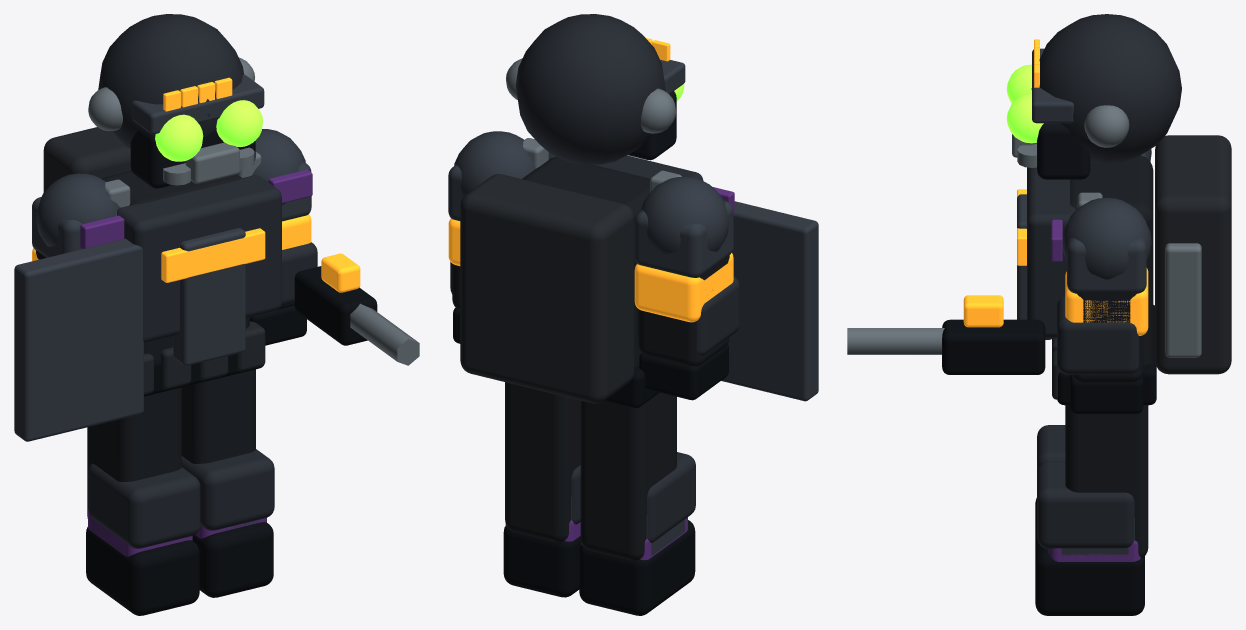
The model's file is assault_l04.glb.
3 views of the same model, side by side, from view 1: azimuth 30°, elevation 25°; view 2: azimuth 150°, elevation 25°; view 3: azimuth 270°, elevation 25° (orthographic). The views are drawn at different scales.
Parts seen in each view (by area): view 1: forearm_shield, segmented_vest, trouser (×2), shaped_knee_guard (×2), boot (×2), rounded_helmet, front_plate, shoulder_joint (×2), field_pack, carbine_body, dzn_chest_flash, helmet_brow (+19 smaller); view 2: field_pack, trouser (×2), rounded_helmet, forearm_shield, boot (×2), shoulder_joint (×2), rank_stripe (×2), shoulder_plate (×2), body, shaped_knee_guard (×2), sleeve, glove (+6 smaller); view 3: field_pack, rounded_helmet, trouser, shaped_knee_guard (×2), boot, carbine_body, segmented_vest, shoulder_joint, forearm_plate, spare_magazine, body, shoulder_plate (+13 smaller).
Boxes of the visible parts, box(x1,y1,x2,y2) form: forearm_shield: box(14, 238, 143, 441); segmented_vest: box(117, 175, 281, 342); trouser (×2): box(87, 369, 255, 518); shaped_knee_guard (×2): box(88, 449, 274, 548); boot (×2): box(86, 522, 273, 615); rounded_helmet: box(98, 14, 243, 148); front_plate: box(173, 228, 245, 365); shoulder_joint (×2): box(36, 129, 305, 246); field_pack: box(43, 127, 131, 192); carbine_body: box(294, 266, 377, 345); dzn_chest_flash: box(161, 228, 265, 282); helmet_brow: box(132, 74, 264, 134); field_pack: box(460, 174, 634, 403); trouser (×2): box(505, 382, 676, 560); rounded_helmet: box(515, 14, 665, 164); forearm_shield: box(721, 201, 818, 401); boot (×2): box(503, 520, 695, 615); shoulder_joint (×2): box(454, 131, 728, 254); rank_stripe (×2): box(448, 218, 733, 322); shoulder_plate (×2): box(448, 164, 733, 277); body: box(522, 156, 650, 367); shaped_knee_guard (×2): box(571, 452, 695, 542); sleeve: box(638, 255, 729, 365); glove: box(639, 344, 728, 400); field_pack: box(1155, 135, 1231, 374); rounded_helmet: box(1031, 14, 1181, 163); trouser: box(1065, 405, 1148, 557); shaped_knee_guard (×2): box(1037, 425, 1134, 548); boot: box(1035, 534, 1144, 615); carbine_body: box(942, 319, 1045, 374); segmented_vest: box(1027, 167, 1075, 337); shoulder_joint: box(1062, 197, 1151, 279); forearm_plate: box(1057, 296, 1138, 374); spare_magazine: box(1165, 243, 1201, 357); body: box(1070, 155, 1153, 365); shoulder_plate: box(1067, 219, 1146, 293).
Bounding box in the file's own units: 1.1 × 1.87 × 1.16.
